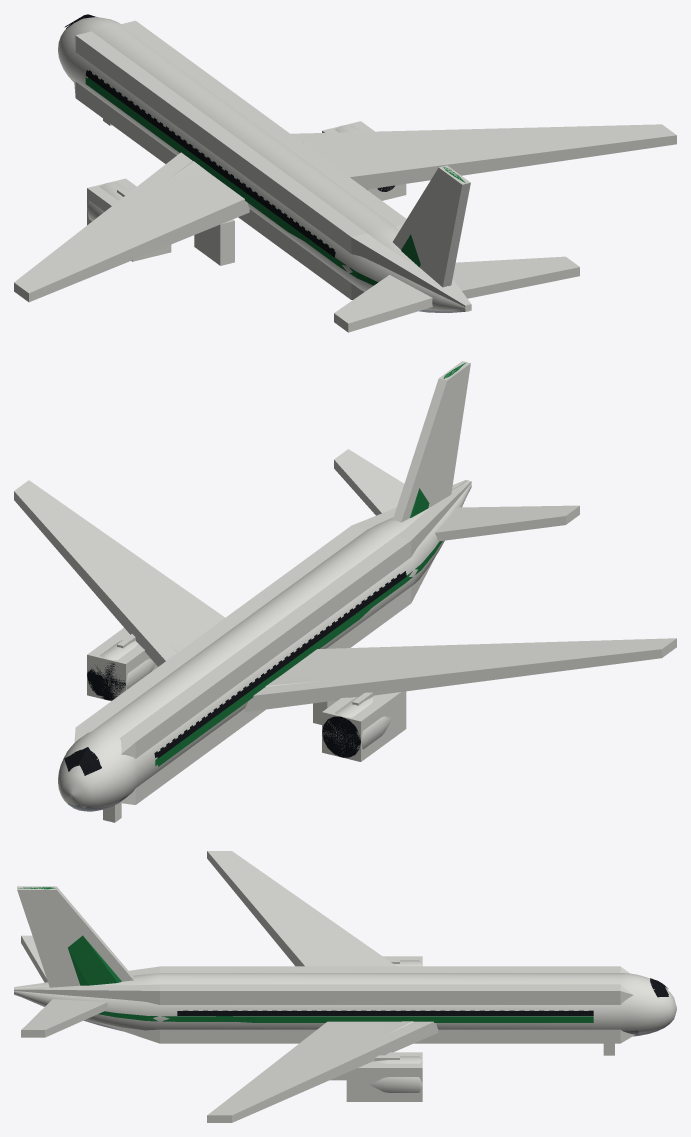
File: bne_ac_wide_green.dae
3 views of the same model, one above another, from view 1: azimuth 30°, elevation 25°; view 2: azimuth 150°, elevation 25°; view 3: azimuth 270°, elevation 25° (orthographic). The views are drawn at different scales.
Parts seen in each view (by area): view 1: Colmesh_bne_ac_wide_green-1, bne_ac_wide_green160, bne_ac_wide_green16; view 2: Colmesh_bne_ac_wide_green-1, bne_ac_wide_green160, bne_ac_wide_green16; view 3: Colmesh_bne_ac_wide_green-1, bne_ac_wide_green160, bne_ac_wide_green16.
Boxes of the visible parts, left/top/right/bottom form: Colmesh_bne_ac_wide_green-1: left=14, top=20, right=676, bottom=332; bne_ac_wide_green160: left=14, top=16, right=471, bottom=327; bne_ac_wide_green16: left=64, top=14, right=469, bottom=310; Colmesh_bne_ac_wide_green-1: left=14, top=361, right=676, bottom=822; bne_ac_wide_green160: left=58, top=362, right=674, bottom=811; bne_ac_wide_green16: left=64, top=481, right=466, bottom=795; Colmesh_bne_ac_wide_green-1: left=14, top=851, right=634, bottom=1122; bne_ac_wide_green160: left=14, top=887, right=676, bottom=1120; bne_ac_wide_green16: left=16, top=977, right=668, bottom=1034.
Size of the model in its own units: 60.1 by 63.7 by 17.5.
